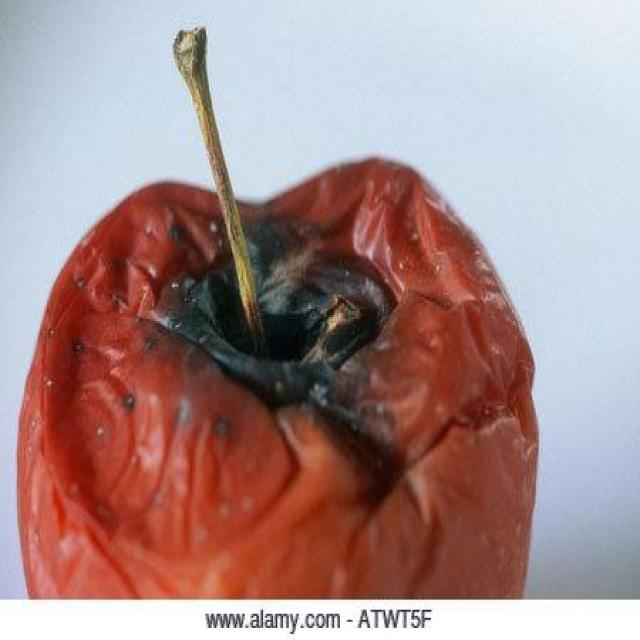Rotten: (26, 143, 535, 604)
